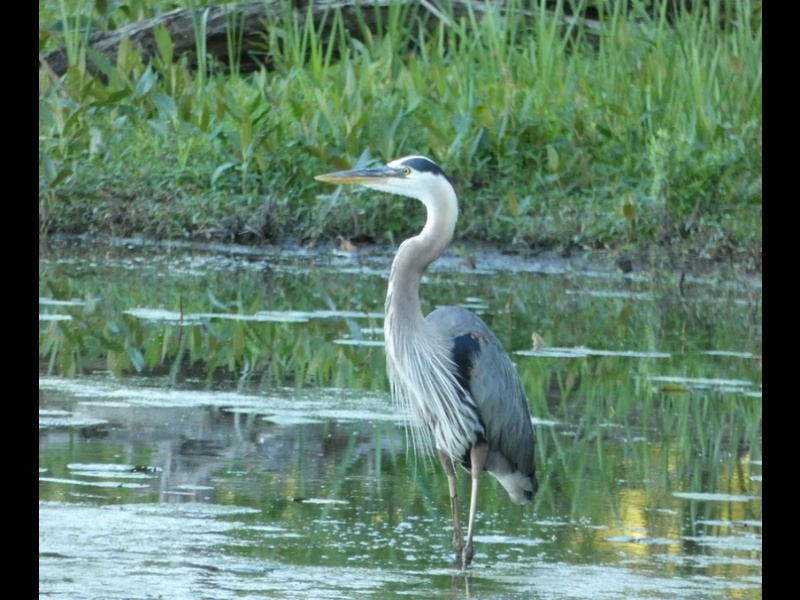heron: (306, 152, 547, 565)
